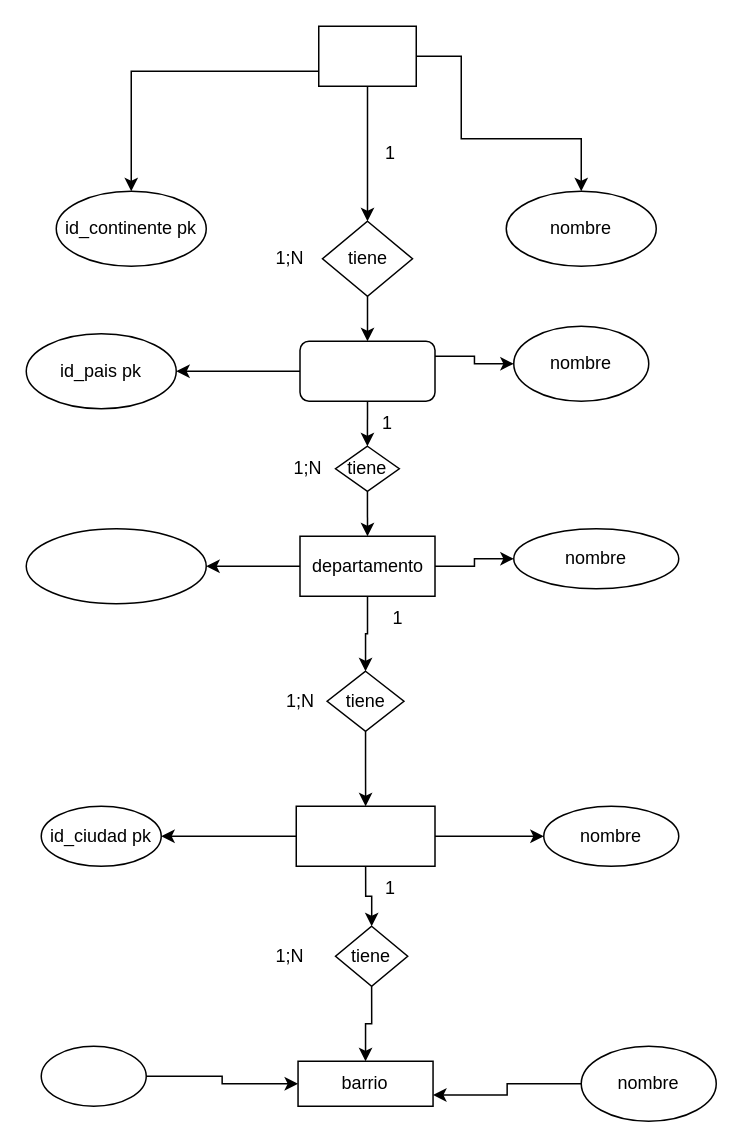
The diagram is 743 pixels wide and 1148 high, and some of its shapes have lost their labels. The shapes that lost their labels are listed below. From the top down, each one's centre as x and y in pixels, then its label:
the point at 366,55: continente
the point at 366,370: pais
the point at 115,565: id_departamento pk
the point at 365,835: ciudad
the point at 93,1075: id_barrio pk
